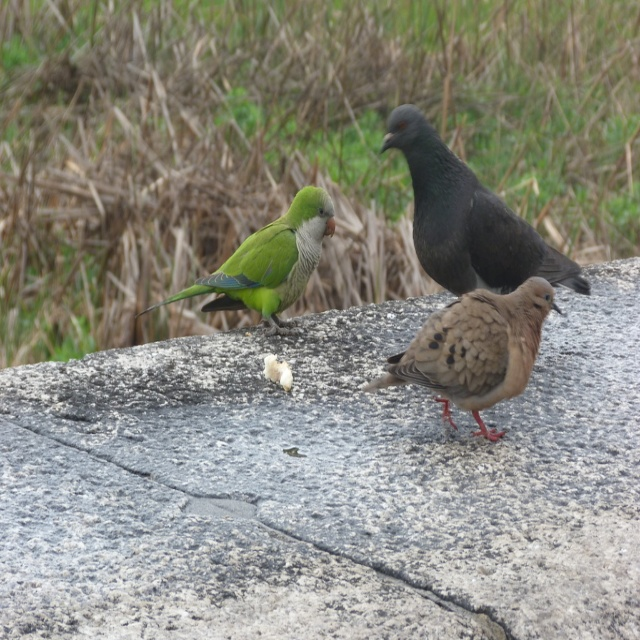Parrot: (137, 184, 336, 339)
